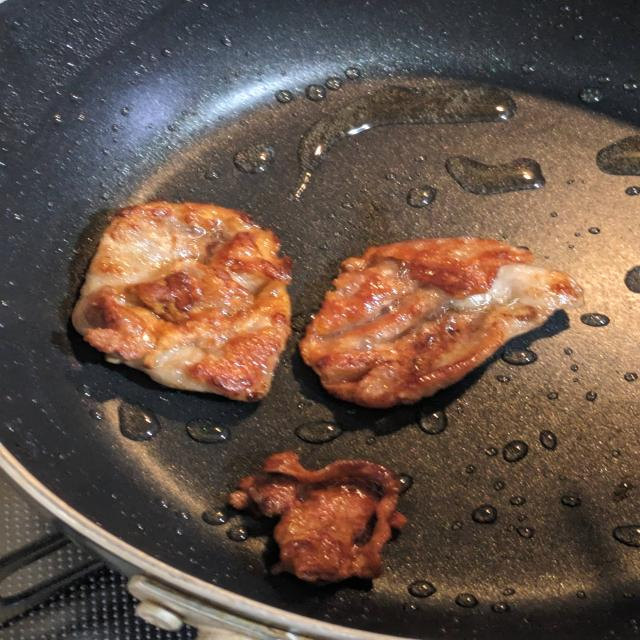OK cooked pork,: (54, 192, 297, 403)
overcooked pork: (290, 230, 606, 421), (205, 447, 411, 600)
